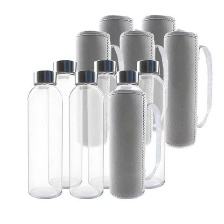bottle: (106, 67, 150, 206), (21, 64, 65, 202), (66, 67, 106, 201), (46, 55, 83, 190), (133, 57, 169, 191), (86, 57, 120, 192)
